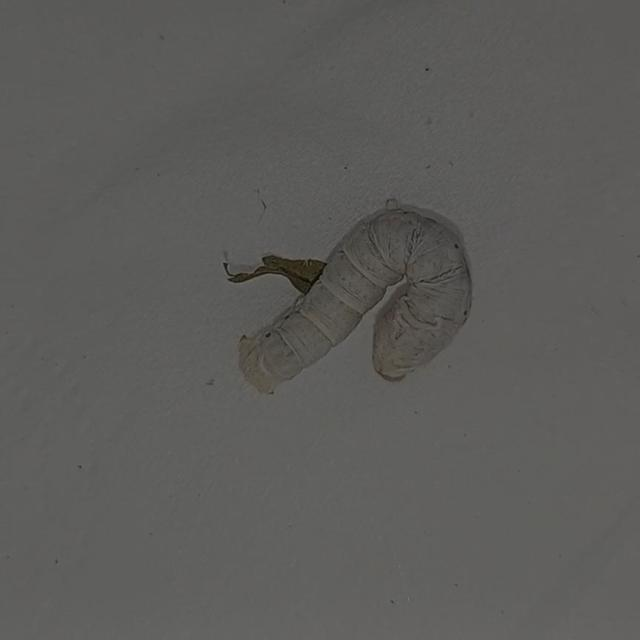Healthy: (197, 148, 488, 464)
